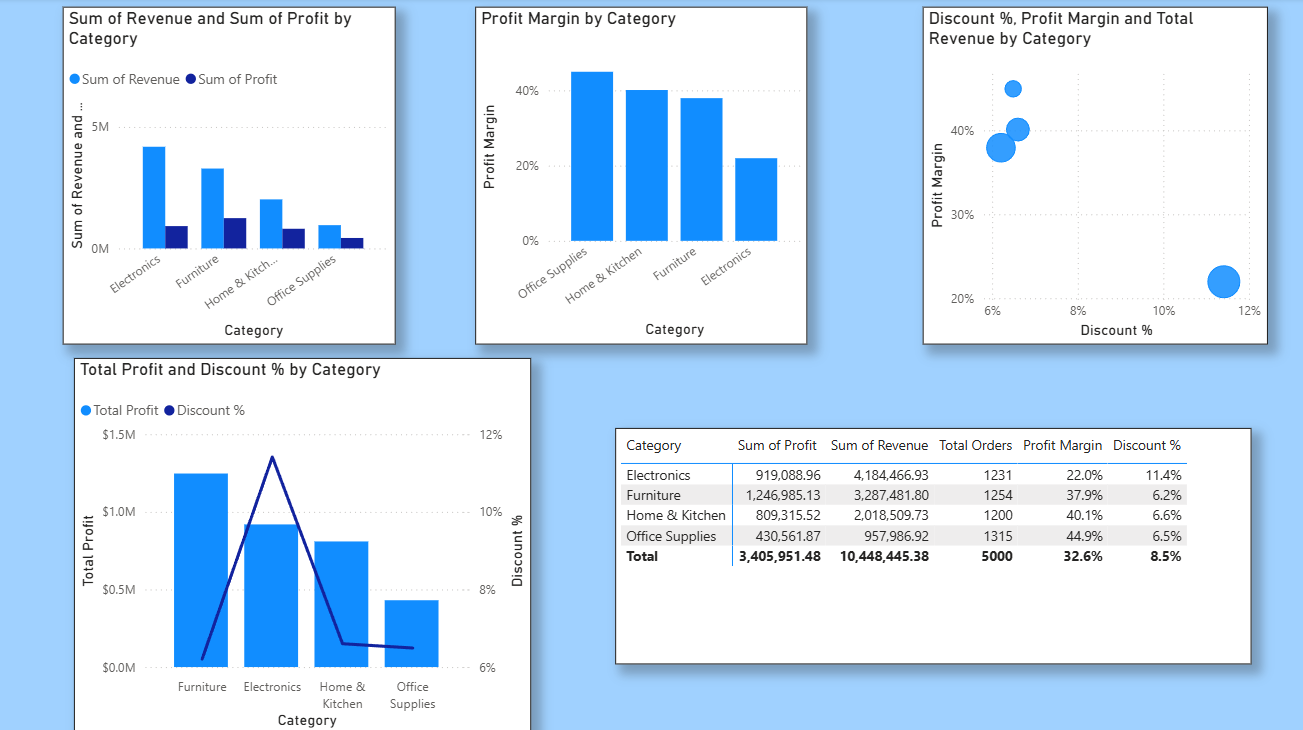

Layout of this report page (visuals, bound fields, positions):
{"tool":"powerbi","page":{"name":"Profitability Deep Dive","canvas":[1280,720],"ordinal":1},"visuals":[{"type":"clusteredColumnChart","fields":{"Category":["retail_profitability_data.Category"],"Y":["Sum(retail_profitability_data.Revenue)","Sum(retail_profitability_data.Profit)"]},"box":[62.4,8.6,325.3,330.2],"z":0},{"type":"clusteredColumnChart","fields":{"Category":["retail_profitability_data.Category"],"Y":["DateTable.Profit Margin"]},"box":[465.9,8.6,325,330],"z":1},{"type":"pivotTable","fields":{"Rows":["retail_profitability_data.Category"],"Values":["Sum(retail_profitability_data.Profit)","Sum(retail_profitability_data.Revenue)","DateTable.Total Orders","DateTable.Profit Margin","DateTable.Discount %"]},"box":[602.9,420.7,622.4,231.1],"z":2},{"type":"lineClusteredColumnComboChart","fields":{"Category":["retail_profitability_data.Category"],"Y":["DateTable.Total Profit"],"Y2":["DateTable.Discount %"]},"box":[73.4,352.2,447.6,368.1],"z":3},{"type":"scatterChart","fields":{"X":["DateTable.Discount %"],"Y":["DateTable.Profit Margin"],"Size":["DateTable.Total Revenue"],"Category":["retail_profitability_data.Category"]},"box":[903.7,8.6,337.5,330.2],"z":4}]}

Visuals, with their boxes in screenshot pixels (x1, y1, x2, y2), scaled from the page's 1280x720 canvas onto the 1303x730 screenshot:
clusteredColumnChart - retail_profitability_data.Category x Sum(retail_profitability_data.Revenue): 64,9,395,344
clusteredColumnChart - retail_profitability_data.Category x DateTable.Profit Margin: 474,9,805,343
pivotTable - retail_profitability_data.Category x Sum(retail_profitability_data.Profit): 614,427,1247,661
lineClusteredColumnComboChart - retail_profitability_data.Category x DateTable.Total Profit: 75,357,530,729
scatterChart - DateTable.Discount % x DateTable.Profit Margin: 920,9,1264,344
